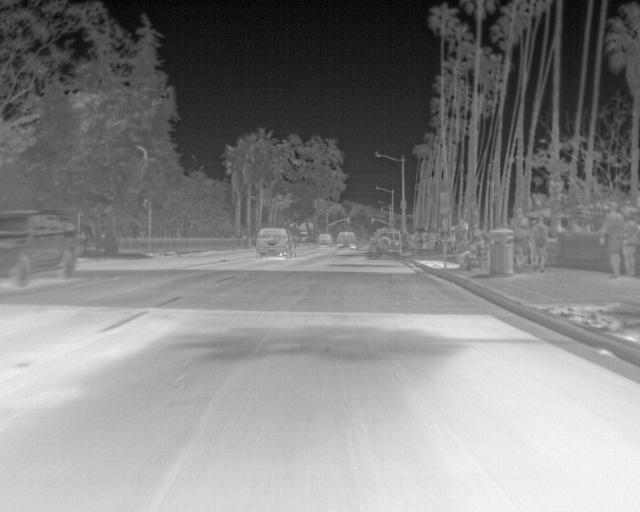bicycle: (0, 210, 78, 287), (366, 227, 405, 261), (255, 226, 293, 260), (335, 230, 358, 250), (316, 232, 332, 246)
empty: (598, 200, 623, 276), (621, 206, 639, 275), (530, 216, 550, 273)
